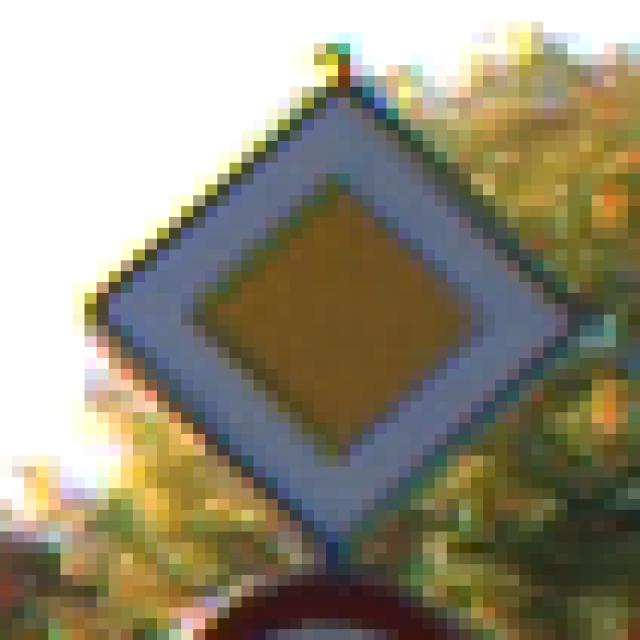Main Road: (74, 55, 569, 576)
